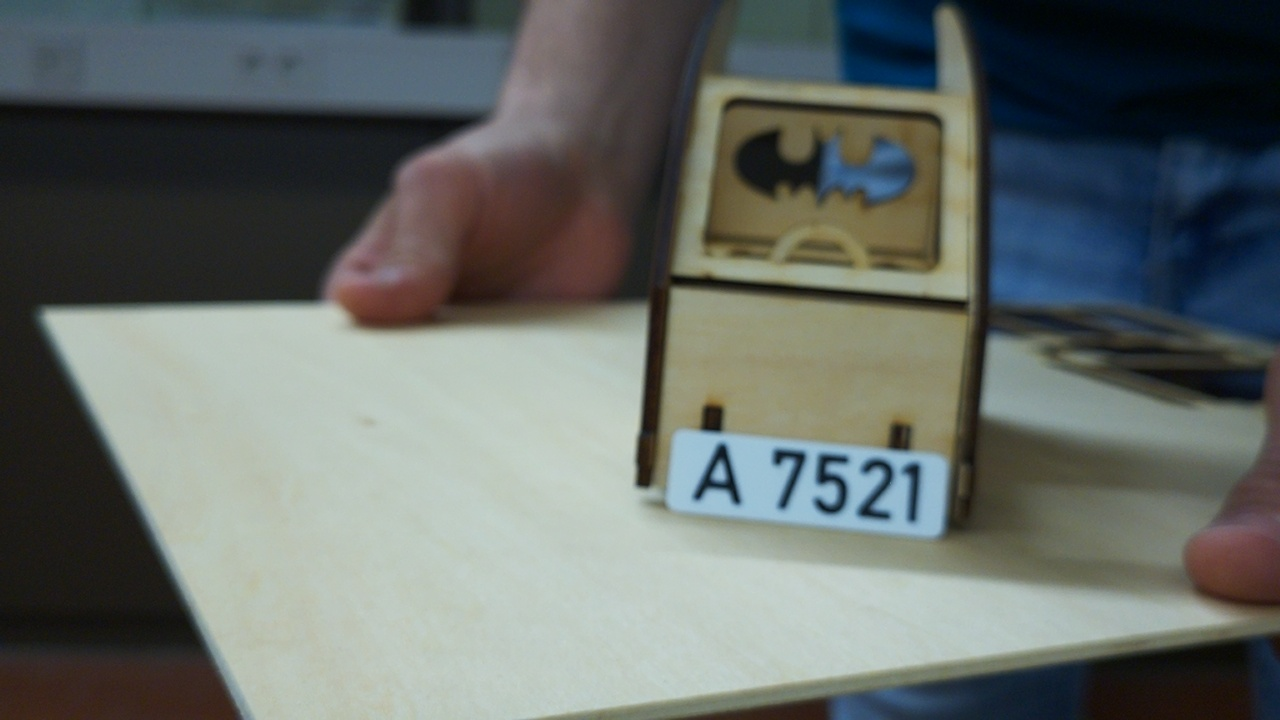license_plate: (664, 425, 955, 540)
